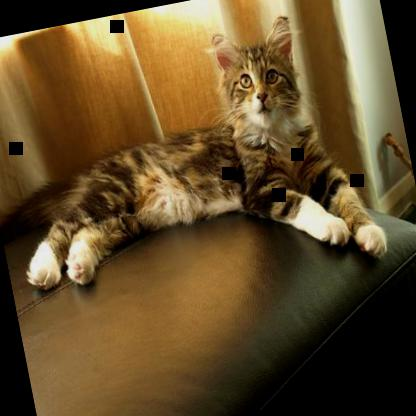cat: (0, 2, 389, 322)
